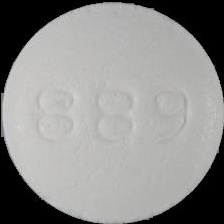0093-0688: (0, 0, 224, 224)
